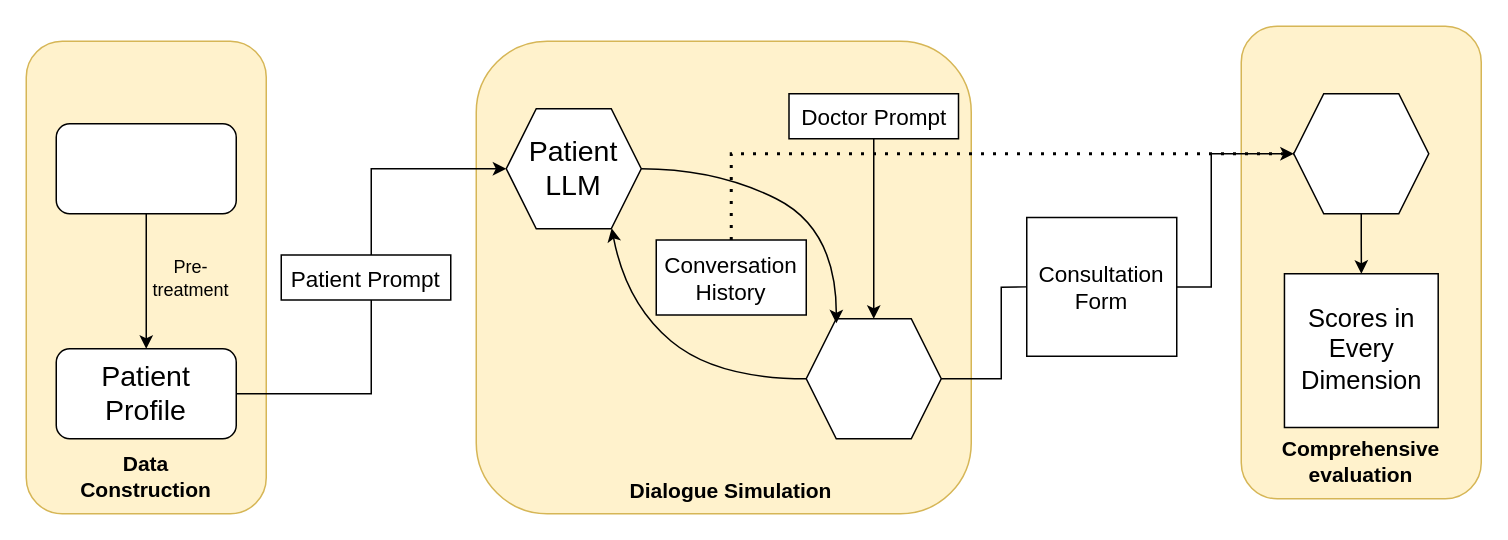
This 1508x540 diagram has some shape labels left out. The shapes that lost their labels are listed below. From the top down, each one's centre as x and y in pixels, then its label:
At (145,168): "Real Cases".
At (1360,153): "Evaluation LLM".
At (873,378): "Doctor LLM".
